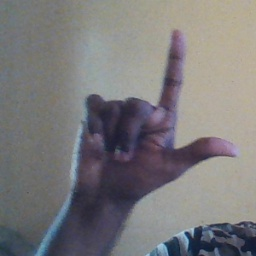L: (66, 27, 243, 199)
